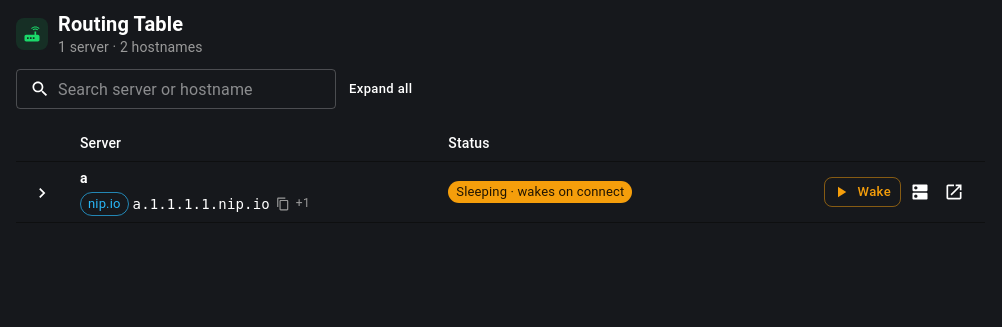
Test: RoutingTable › row actions (#768) › offers a single Wake per server however many hostnames it has
Click the button named "Show domains of a" at (42, 193), box [32,183,52,203]
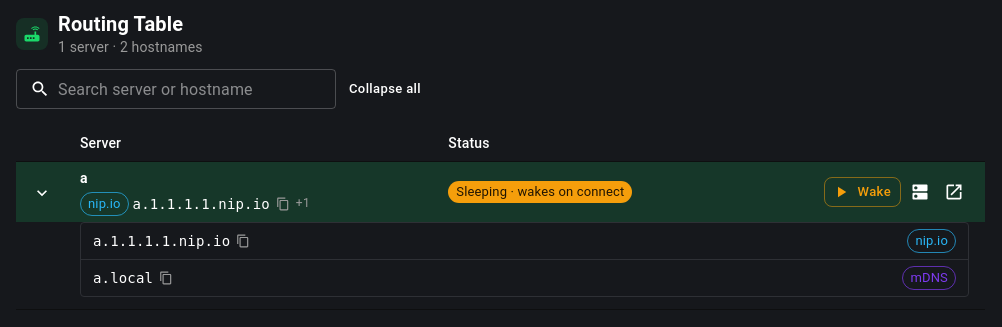
Expected: the number of buttons named "Wake a" is 1, [824,177,901,207]
